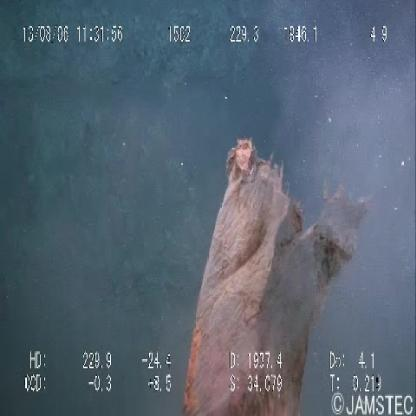Rác: (172, 132, 374, 416)
